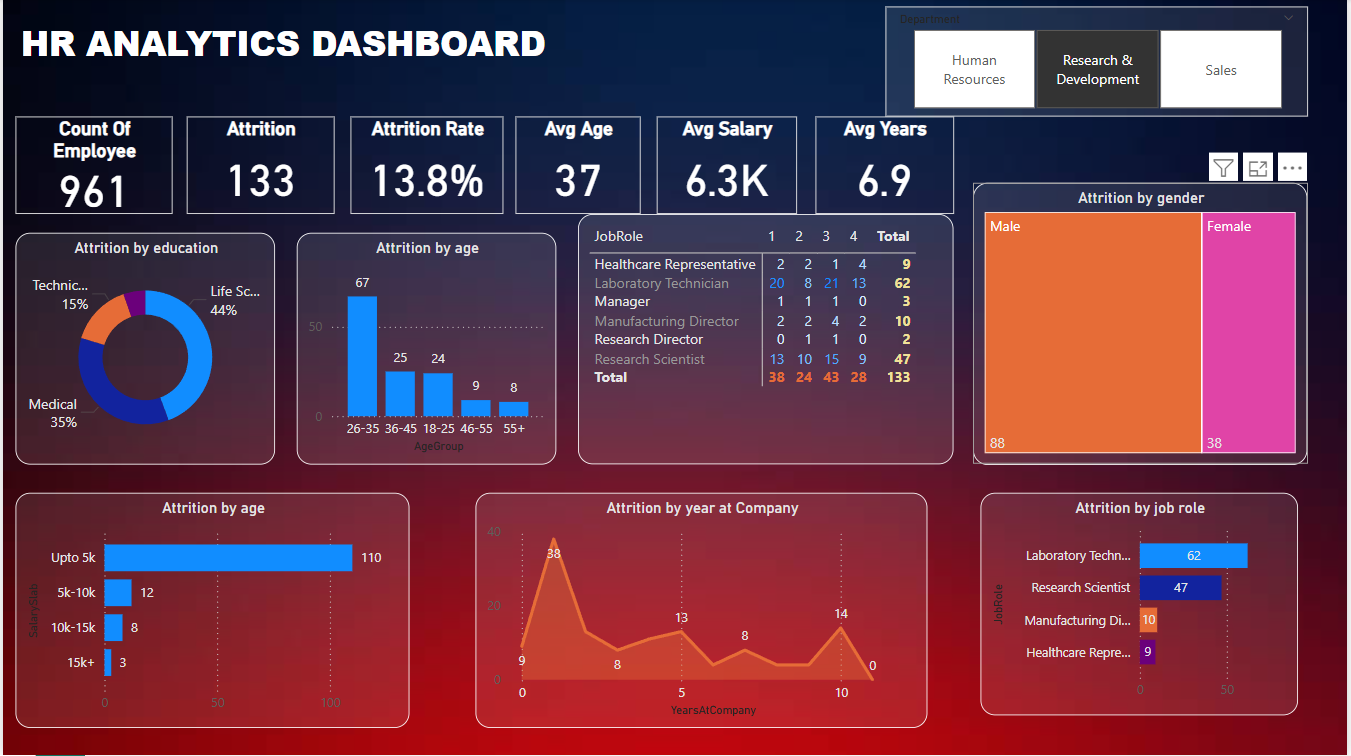

The page's visual inventory and layout, read from the dashboard file:
{"tool":"powerbi","page":{"name":"Page 1","canvas":[1280,720],"ordinal":0},"visuals":[{"type":"card","title":"Count Of Employee","fields":{"Values":["CountNonNull(HR_Analytics (1).EmpID)"]},"box":[12.5,112.1,149.5,92.5],"z":0},{"type":"card","title":"Attrition","fields":{"Values":["Sum(HR_Analytics (1).AttritionCount)"]},"box":[174.4,112.1,140.6,92.5],"z":1000},{"type":"card","title":"Attrition Rate","fields":{"Values":["HR_Analytics (1).AttritionRate"]},"box":[331,112.1,145.9,92.5],"z":2000},{"type":"card","title":"Avg Age","fields":{"Values":["Avg(HR_Analytics (1).Age)"]},"box":[487.7,112.1,119.2,92.5],"z":3000},{"type":"card","title":"Avg Salary","fields":{"Values":["Avg(HR_Analytics (1).MonthlyIncome)"]},"box":[622.9,112.1,133.5,92.5],"z":4000},{"type":"card","title":"Avg Years","fields":{"Values":["Avg(HR_Analytics (1).YearsAtCompany)"]},"box":[774.2,112.1,131.7,92.5],"z":5000},{"type":"donutChart","title":"Attrition by education","fields":{"Category":["HR_Analytics (1).EducationField"],"Y":["Sum(HR_Analytics (1).AttritionCount)"]},"box":[12.5,222.5,247.4,220.7],"z":6000},{"type":"columnChart","title":"Attrition by age","fields":{"Category":["HR_Analytics (1).AgeGroup"],"Y":["Sum(HR_Analytics (1).AttritionCount)"]},"box":[279.4,222.5,247.4,220.7],"z":7000},{"type":"pivotTable","fields":{"Rows":["HR_Analytics (1).JobRole"],"Values":["Sum(HR_Analytics (1).AttritionCount)"],"Columns":["HR_Analytics (1).JobSatisfaction"]},"box":[548.2,204.7,357.7,238.5],"z":8000},{"type":"barChart","title":"Attrition by age","fields":{"Category":["HR_Analytics (1).SalarySlab"],"Y":["Sum(HR_Analytics (1).AttritionCount)"]},"box":[12.5,469.9,375.5,224.3],"z":9000},{"type":"barChart","title":"Attrition by job role","fields":{"Y":["Sum(HR_Analytics (1).AttritionCount)"],"Series":["HR_Analytics (1).JobRole"],"Category":["HR_Analytics (1).JobRole"]},"box":[930.8,469.9,302.6,211.8],"z":10000},{"type":"areaChart","title":"Attrition by year at Company","fields":{"Category":["HR_Analytics (1).YearsAtCompany"],"Y":["Sum(HR_Analytics (1).AttritionCount)"]},"box":[450.3,469.9,430.7,224.3],"z":11000},{"type":"treemap","title":"Attrition by gender","fields":{"Group":["HR_Analytics (1).Gender"],"Values":["Sum(HR_Analytics (1).AttritionCount)"]},"box":[923.7,174.4,318.6,268.7],"z":12000},{"type":"slicer","fields":{"Values":["HR_Analytics (1).Department"]},"box":[840.1,7.1,402.2,105],"z":13000},{"type":"textbox","box":[12.5,14.2,715.5,65.9],"z":14000}]}

Visuals, with their boxes in screenshot pixels (x1, y1, x2, y2), scaled from the page's 1280x720 canvas onto the 1351x756 screenshot:
"Count Of Employee" card: bbox(13, 118, 171, 215)
"Attrition" card: bbox(184, 118, 332, 215)
"Attrition Rate" card: bbox(349, 118, 503, 215)
"Avg Age" card: bbox(515, 118, 641, 215)
"Avg Salary" card: bbox(657, 118, 798, 215)
"Avg Years" card: bbox(817, 118, 956, 215)
"Attrition by education" donutChart: bbox(13, 234, 274, 465)
"Attrition by age" columnChart: bbox(295, 234, 556, 465)
pivotTable - HR_Analytics (1).JobRole x Sum(HR_Analytics (1).AttritionCount): bbox(579, 215, 956, 465)
"Attrition by age" barChart: bbox(13, 493, 410, 729)
"Attrition by job role" barChart: bbox(982, 493, 1302, 716)
"Attrition by year at Company" areaChart: bbox(475, 493, 930, 729)
"Attrition by gender" treemap: bbox(975, 183, 1311, 465)
slicer - HR_Analytics (1).Department: bbox(887, 7, 1311, 118)
textbox: bbox(13, 15, 768, 84)
